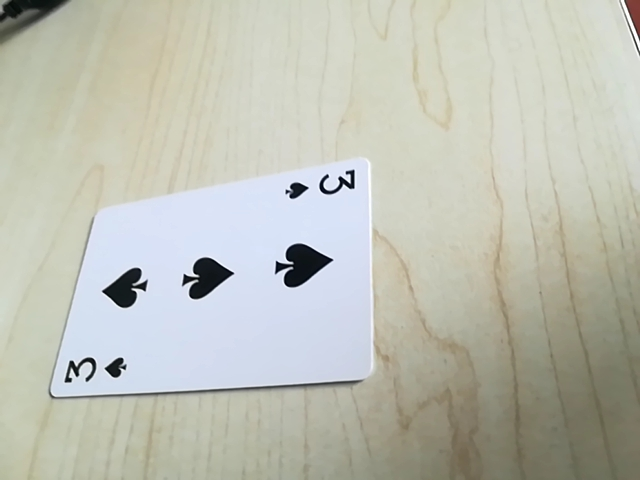ht 3: (57, 350, 133, 394), (283, 165, 361, 204)
